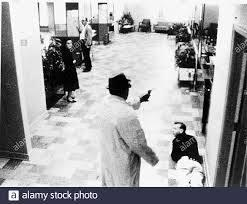weapon: (144, 87, 153, 100)
